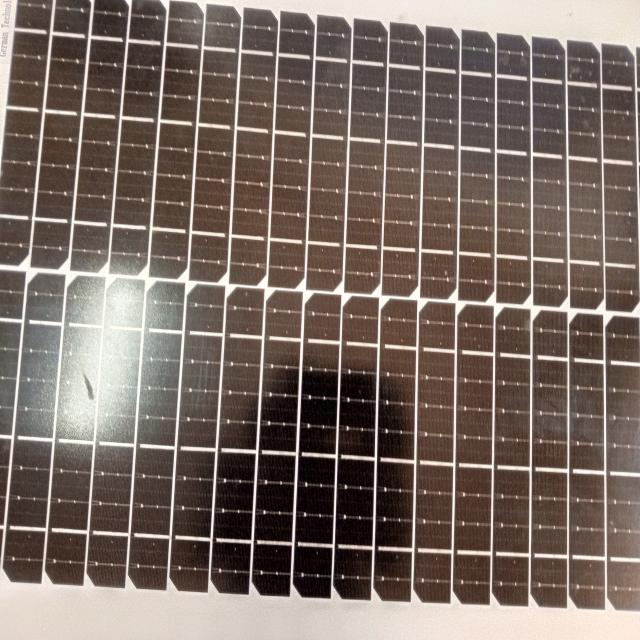Clean: (183, 2, 640, 626)
